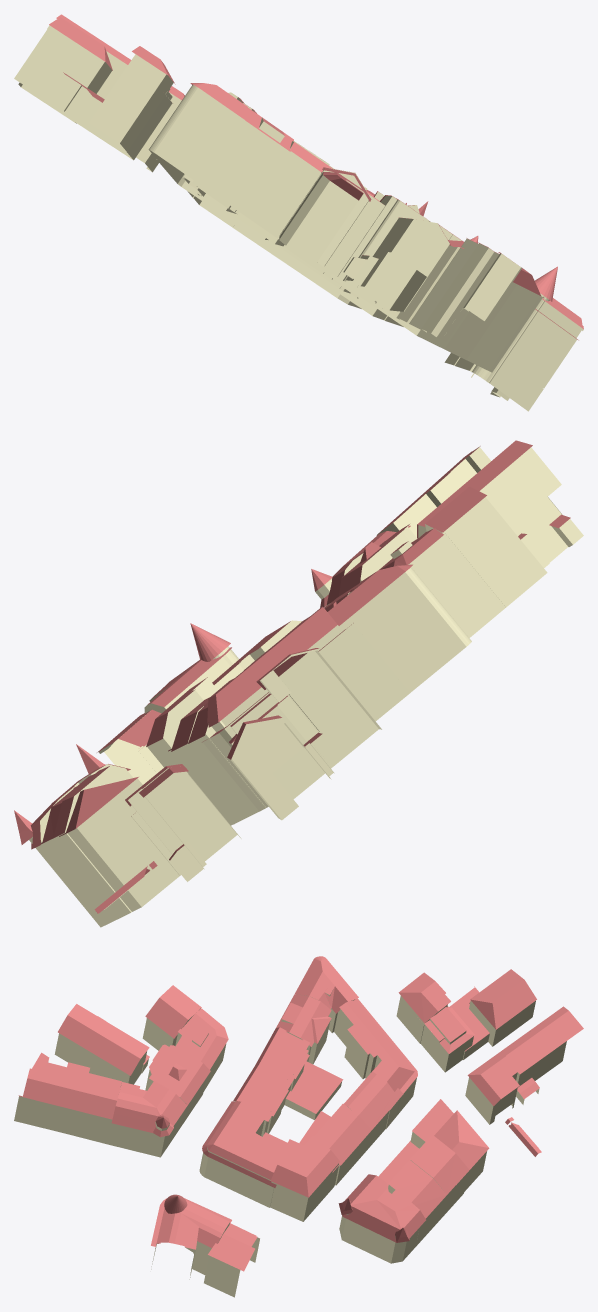
Rendered from tile_010.glb.
3 views of the same model, one above another, from view 1: azimuth 30°, elevation 25°; view 2: azimuth 150°, elevation 25°; view 3: azimuth 270°, elevation 25° (orthographic). The views are drawn at different scales.
Visible parts, largest first — view 1: Batched_Building_ID_6A898EC8-736F-4242-A184-AEBF96FDADB3, Batched_Building_ID_B8CF44D2-AA3D-4E9E-BB89-B50E0E08C8B1; view 2: Batched_Building_ID_6A898EC8-736F-4242-A184-AEBF96FDADB3, Batched_Building_ID_B8CF44D2-AA3D-4E9E-BB89-B50E0E08C8B1; view 3: Batched_Building_ID_B8CF44D2-AA3D-4E9E-BB89-B50E0E08C8B1, Batched_Building_ID_6A898EC8-736F-4242-A184-AEBF96FDADB3.
Part boxes in pixels (x1,y1,x2,y2): Batched_Building_ID_6A898EC8-736F-4242-A184-AEBF96FDADB3: (14, 25, 583, 411); Batched_Building_ID_B8CF44D2-AA3D-4E9E-BB89-B50E0E08C8B1: (49, 14, 583, 340); Batched_Building_ID_6A898EC8-736F-4242-A184-AEBF96FDADB3: (29, 447, 583, 927); Batched_Building_ID_B8CF44D2-AA3D-4E9E-BB89-B50E0E08C8B1: (14, 440, 570, 913); Batched_Building_ID_B8CF44D2-AA3D-4E9E-BB89-B50E0E08C8B1: (18, 956, 583, 1271); Batched_Building_ID_6A898EC8-736F-4242-A184-AEBF96FDADB3: (14, 990, 566, 1297).
Bounding box in the file's own units: 121 × 104 × 214.
